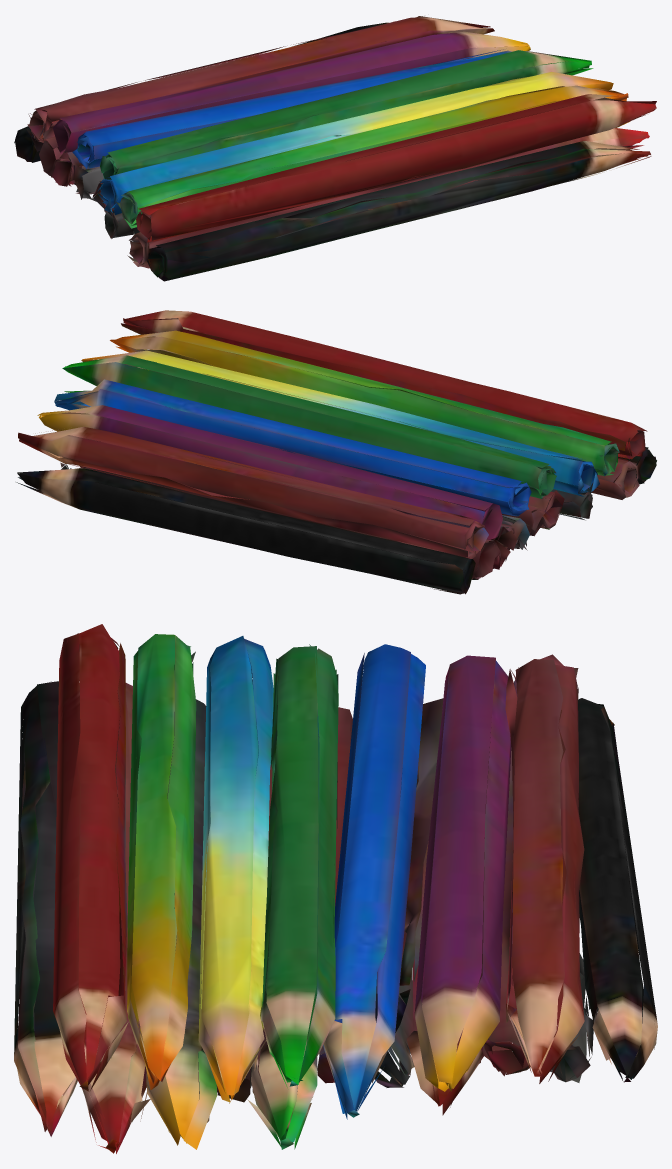
File: kinder_buntstifte.glb
3 views of the same model, one above another, from view 1: azimuth 30°, elevation 25°; view 2: azimuth 150°, elevation 25°; view 3: azimuth 270°, elevation 25° (orthographic). The views are drawn at different scales.
Parts seen in each view (by area): view 1: Prop; view 2: Prop; view 3: Prop.
Boxes of the visible parts, left/top/right/bottom form: Prop: left=14, top=16, right=656, bottom=281; Prop: left=16, top=310, right=656, bottom=594; Prop: left=14, top=624, right=657, bottom=1153.
Bounding box in the file's own units: 7.71 × 1.06 × 4.87.
Materials: 1 (1 with a texture image).
